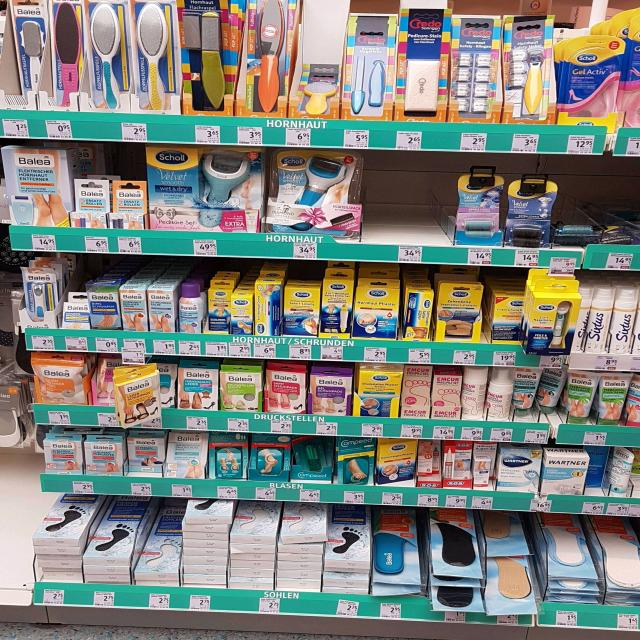void: (366, 152, 409, 260), (412, 153, 453, 262)
